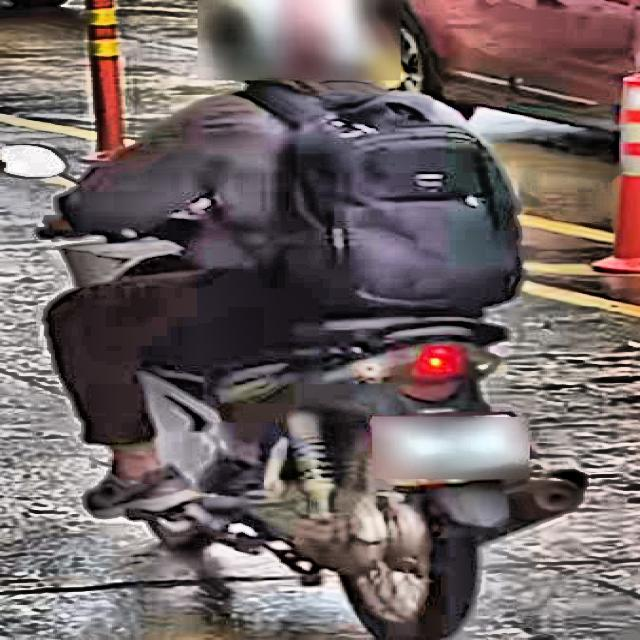motorcycle: (5, 140, 586, 640)
